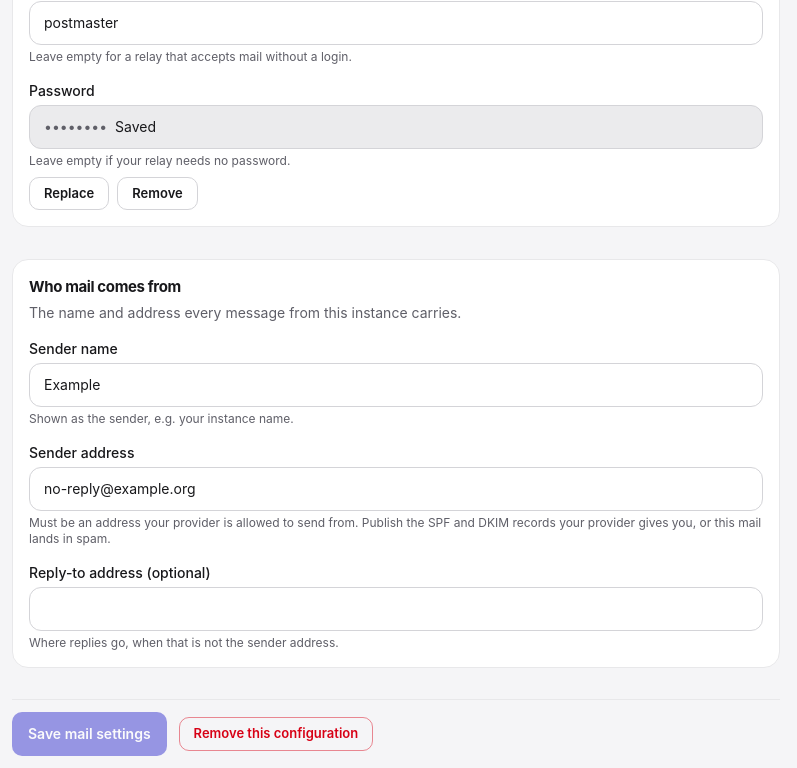
Test case: confirm with your password › blocks the save with an inline message when the password is empty
(page scrolled)
Replace the text in the field labelled "Sender name" with "Renamed". click: (396, 384)
box: [29, 362, 763, 406]
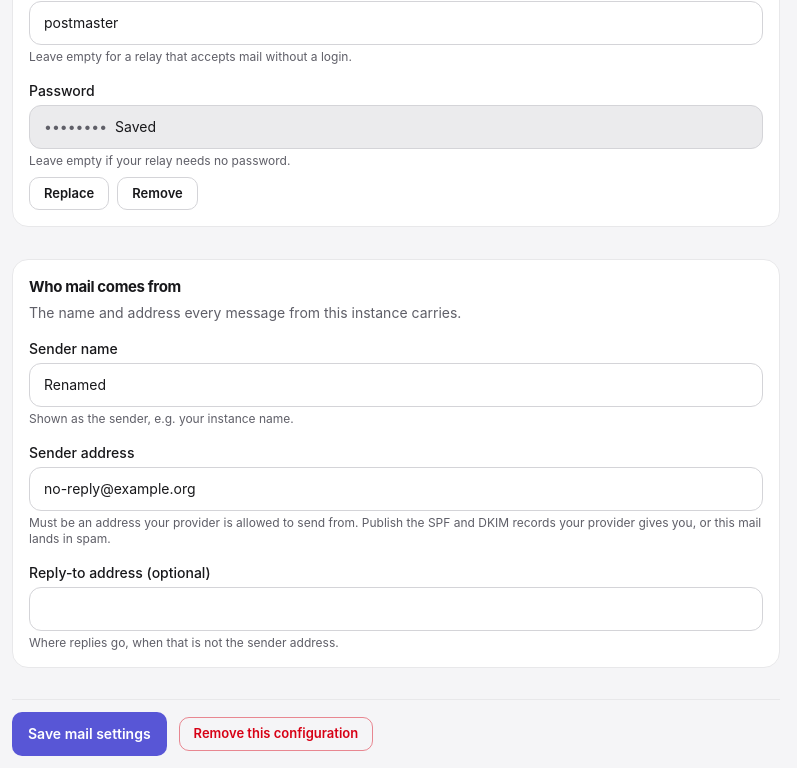
Click the button "Save mail settings". click: (89, 734)
box: [12, 712, 167, 756]
(page scrolled)
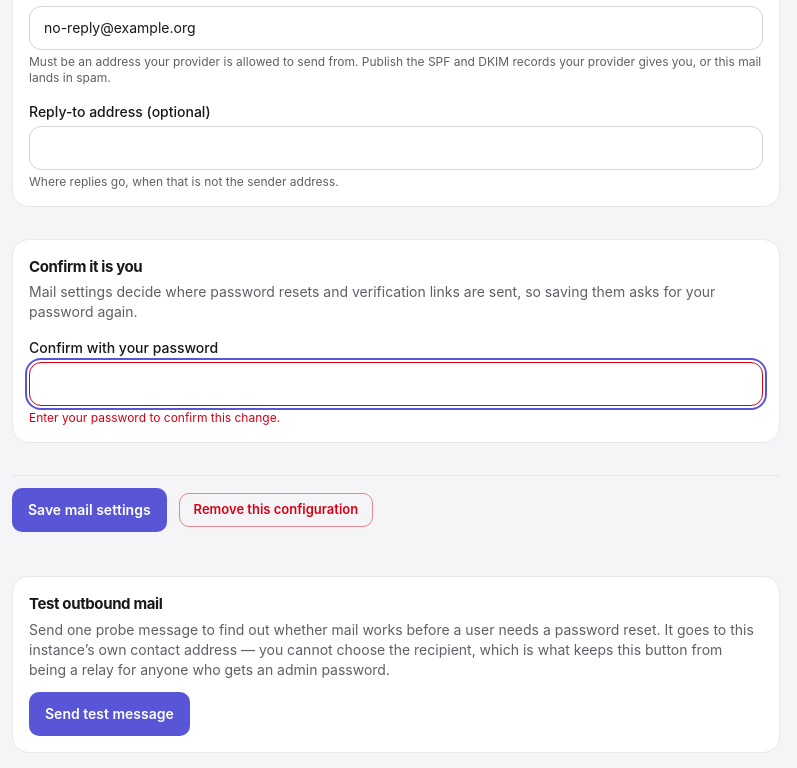
Expected: the text "Enter your password to confirm this change." is shown, [29, 410, 280, 425]
